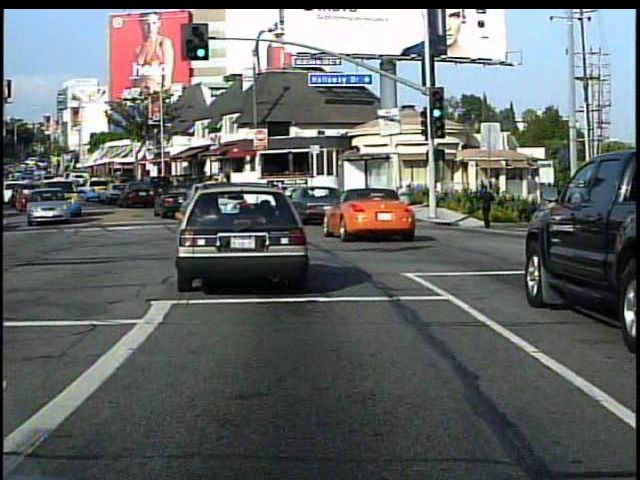person: (564, 185, 587, 246), (475, 182, 497, 229)
